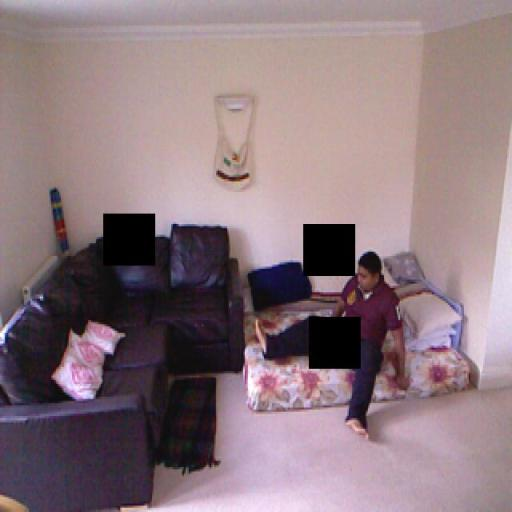Fall: (253, 250, 408, 444)
